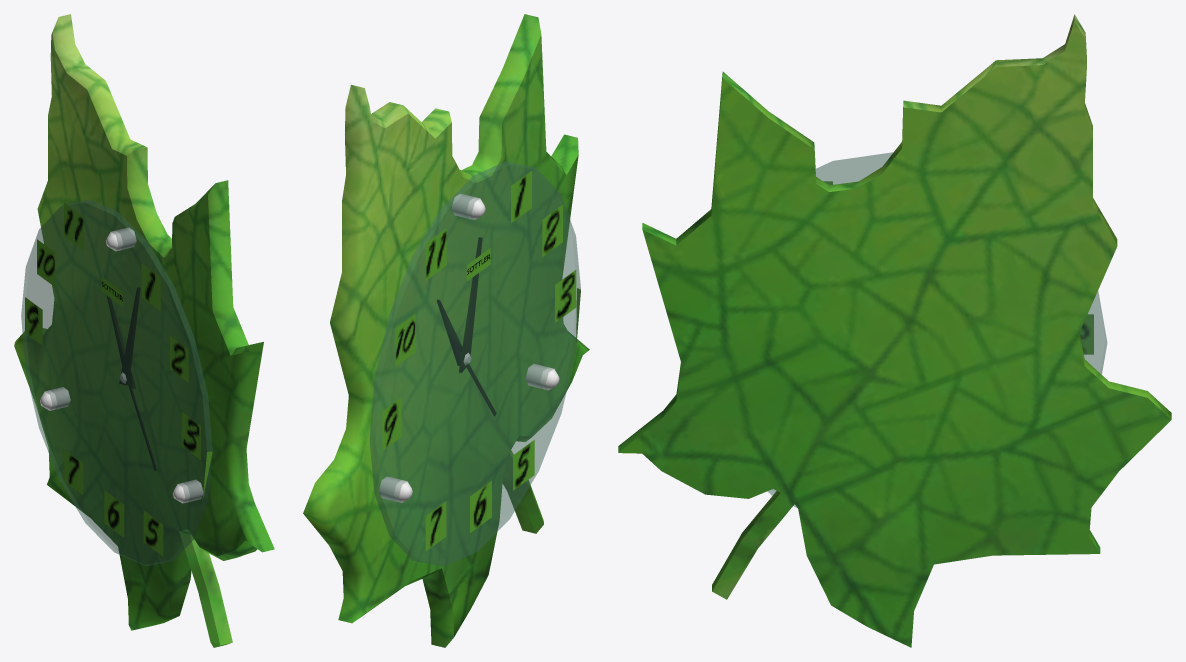
Rendered from PPFYQClock.FBX.
3 renders of one model, left to right at view 1: azimuth 30°, elevation 25°; view 2: azimuth 150°, elevation 25°; view 3: azimuth 270°, elevation 25°, orthographic. The views are drawn at different scales.
Visible parts, largest first — view 1: PPFYQClock; view 2: PPFYQClock; view 3: PPFYQClock.
Boxes of the visible parts, x1,y1,x2,y2 form: PPFYQClock: (14,14,274,647); PPFYQClock: (303,14,589,647); PPFYQClock: (618,14,1171,647).
Size of the model in its own units: 3.95 by 40 by 50.
